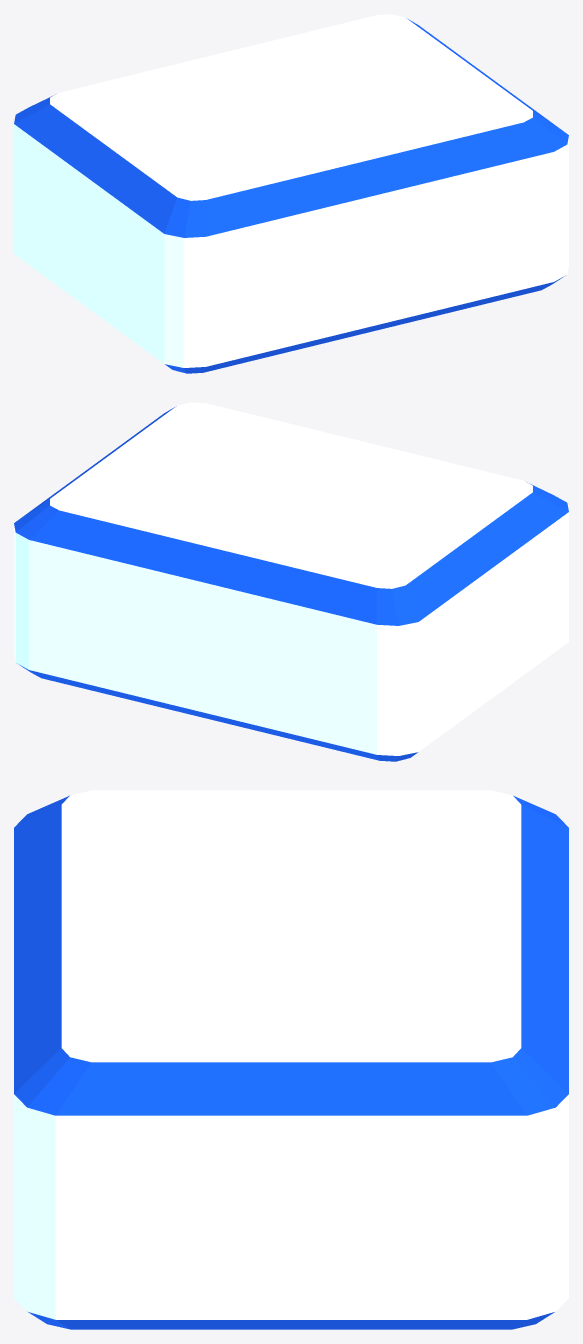
File: calculator_button-transformed.glb
The picture shows the model from 3 angles, top to bottom: view 1: azimuth 30°, elevation 25°; view 2: azimuth 150°, elevation 25°; view 3: azimuth 270°, elevation 25°; orthographic projection. The views are drawn at different scales.
Parts seen in each view (by area): view 1: Button; view 2: Button; view 3: Button.
Boxes of the visible parts, <box> form: Button: <box>14,14,568,373</box>; Button: <box>14,402,568,761</box>; Button: <box>14,790,568,1329</box>.
Bounding box in the file's own units: 1.04 × 0.4057 × 0.7898.
